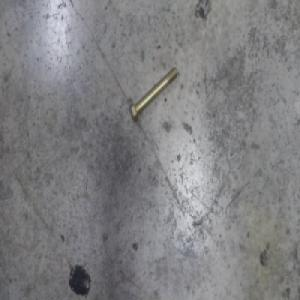Bolt: (129, 66, 179, 123)
